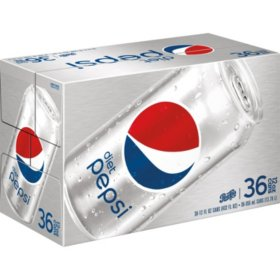pepsi: (122, 101, 198, 189), (125, 103, 202, 189), (125, 101, 198, 189), (125, 103, 198, 189), (13, 126, 43, 182), (15, 126, 43, 182), (160, 43, 214, 54)
